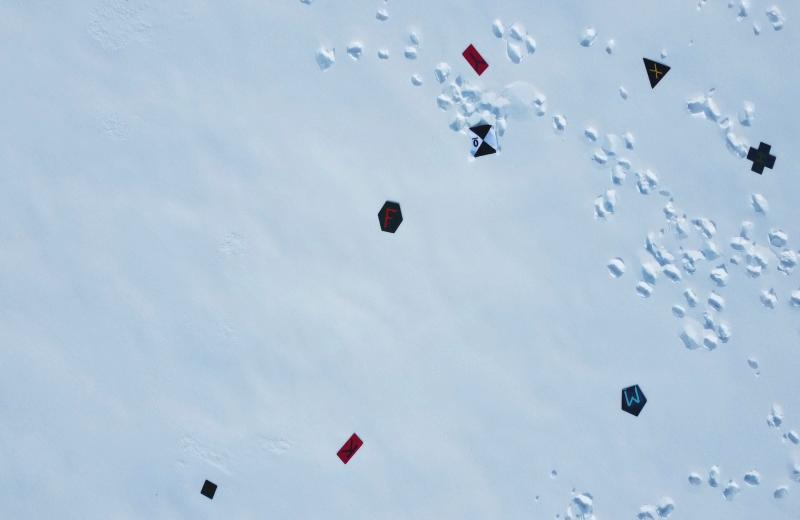Cross: (747, 144, 778, 177)
Hexagon: (376, 199, 407, 234)
Pentagon: (620, 383, 649, 417)
Rectangle: (462, 40, 495, 76), (334, 432, 364, 467), (201, 476, 218, 498)
Triangle: (643, 50, 672, 88)
